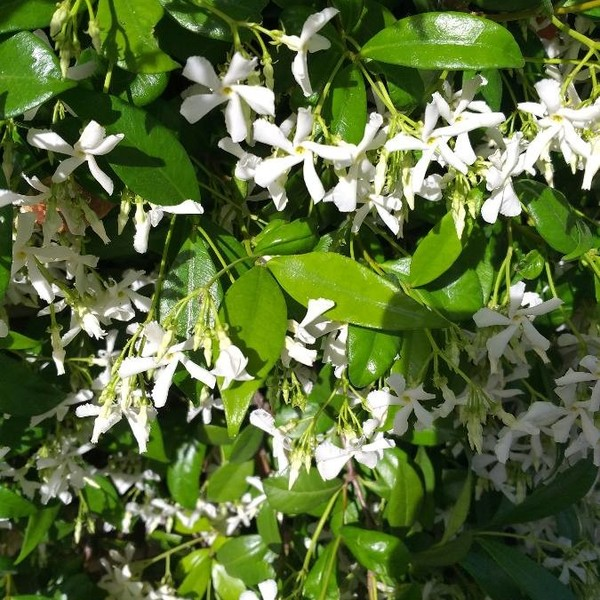obstacle: (50, 216, 395, 576), (177, 34, 586, 269)
